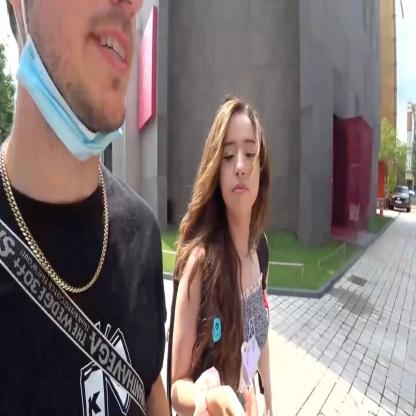streamer: (0, 0, 170, 416), (168, 92, 276, 416)
